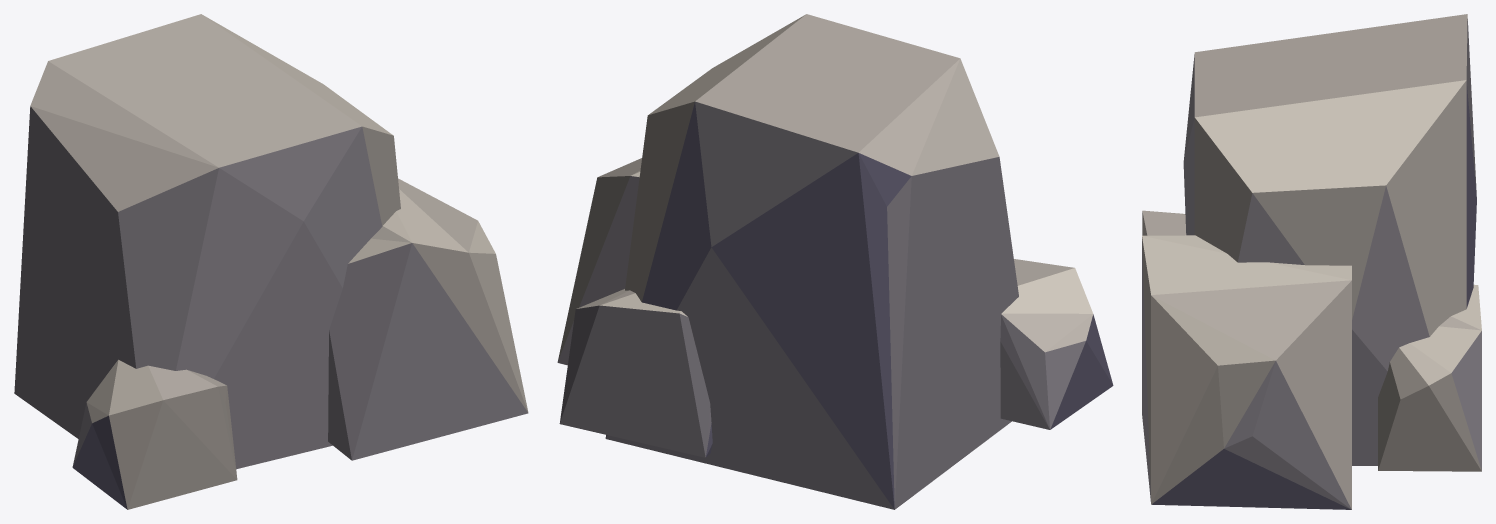
Rendered from mtn_rock_large.glb.
3 views of the same model, side by side, from view 1: azimuth 30°, elevation 25°; view 2: azimuth 150°, elevation 25°; view 3: azimuth 270°, elevation 25° (orthographic). The views are drawn at different scales.
Visible parts, largest first — view 1: mtn_rock_large; view 2: mtn_rock_large; view 3: mtn_rock_large.
Boxes of the visible parts, left/top/right/bottom form: mtn_rock_large: left=14, top=14, right=528, bottom=509; mtn_rock_large: left=557, top=14, right=1113, bottom=509; mtn_rock_large: left=1142, top=14, right=1481, bottom=509.
Size of the model in its own units: 8.35 by 6.25 by 5.61.
